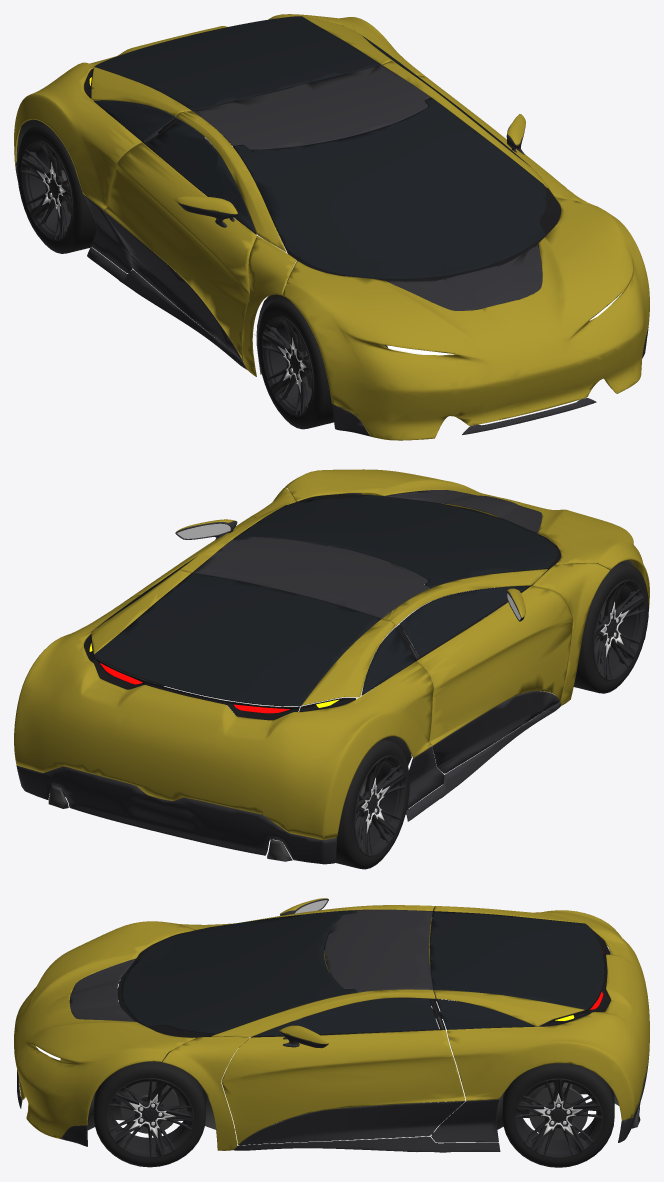
Rendered from car.glb.
3 views of the same model, one above another, from view 1: azimuth 30°, elevation 25°; view 2: azimuth 150°, elevation 25°; view 3: azimuth 270°, elevation 25° (orthographic). The views are drawn at different scales.
Parts seen in each view (by area): view 1: body, wheel-front-right, wheel-back-right; view 2: body, wheel-front-right, wheel-back-right; view 3: body, wheel-front-left, wheel-back-left.
Boxes of the visible parts, bbox=[...] form: body: bbox=[14, 14, 649, 440]; wheel-front-right: bbox=[257, 298, 333, 429]; wheel-back-right: bbox=[17, 123, 104, 253]; body: bbox=[14, 469, 649, 864]; wheel-front-right: bbox=[573, 563, 648, 693]; wheel-back-right: bbox=[335, 739, 409, 869]; body: bbox=[14, 898, 649, 1152]; wheel-front-left: bbox=[94, 1054, 205, 1167]; wheel-back-left: bbox=[502, 1063, 614, 1167].
Bounding box in the file's own units: 1.4 × 0.6854 × 2.6.
